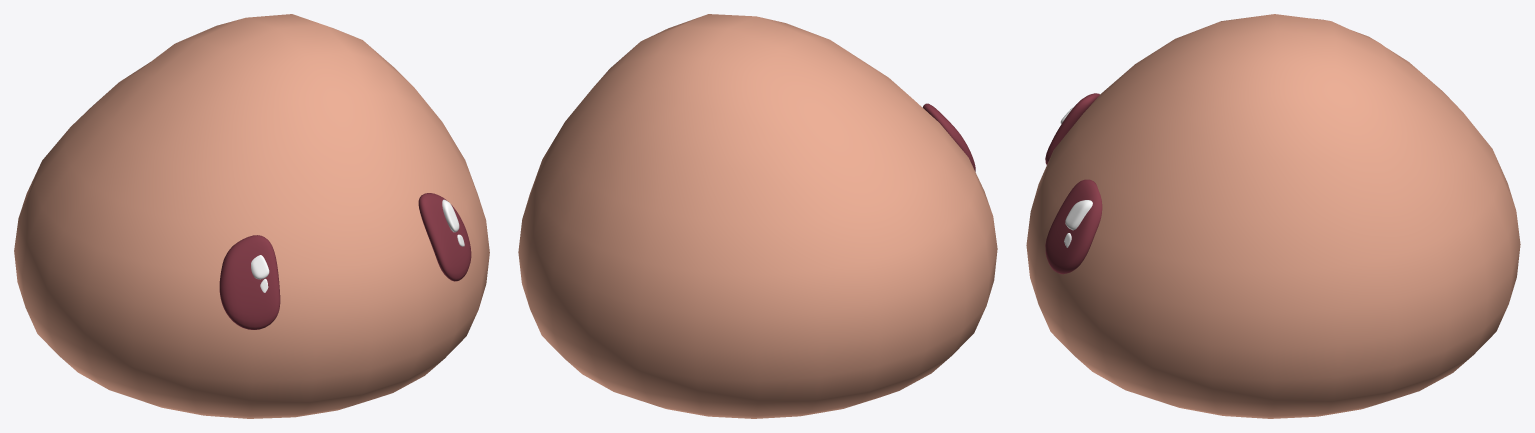
Rendered from slime 1.fbx.
3 views of the same model, side by side, from view 1: azimuth 30°, elevation 25°; view 2: azimuth 150°, elevation 25°; view 3: azimuth 270°, elevation 25° (orthographic). The views are drawn at different scales.
Parts seen in each view (by area): view 1: Sphere; view 2: Sphere; view 3: Sphere.
Part boxes in pixels (box(x1,y1,x2,y2)): Sphere: box(14, 14, 489, 418); Sphere: box(518, 14, 997, 418); Sphere: box(1026, 14, 1520, 418).
Size of the model in its own units: 347 by 254 by 344.
